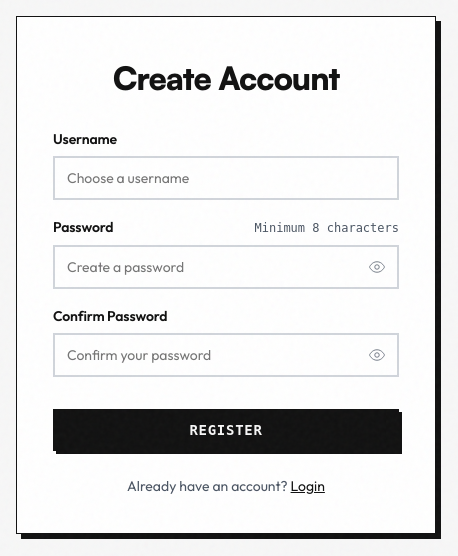
Test: RegisterForm component › toggles visibility for both password and confirm-password fields
Click the button named "Show password" at (377,267), box [357,247,397,287]
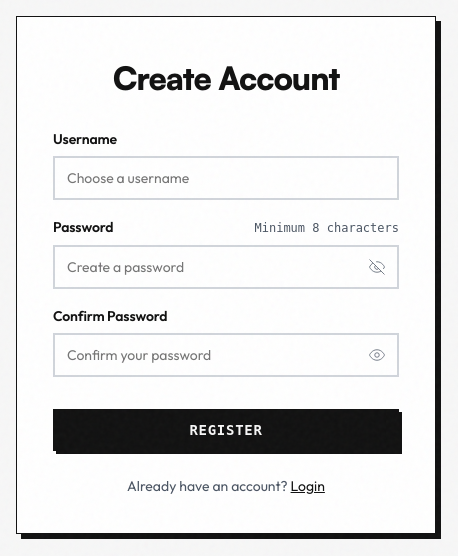
Check: the button named "Hide password" is shown, box [357,247,397,287]
Click the button named "Show confirm password" at (377,355), box [357,335,397,375]
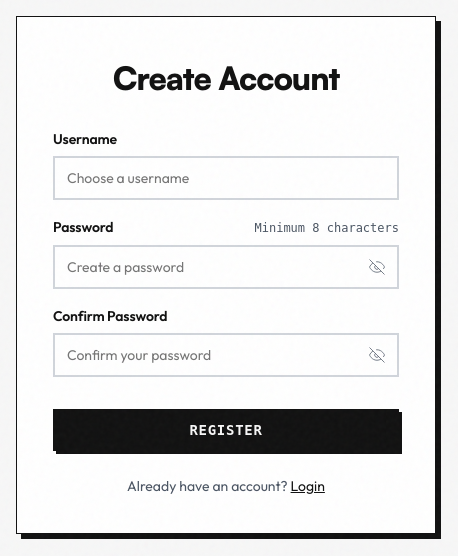
Check: the button named "Hide confirm password" is shown, box [357,335,397,375]
